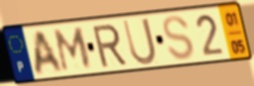2: (195, 13, 226, 58)
A: (34, 28, 65, 77)
M: (53, 25, 93, 73)
R: (90, 22, 129, 69)
S: (161, 14, 196, 62)
U: (121, 16, 158, 68)
